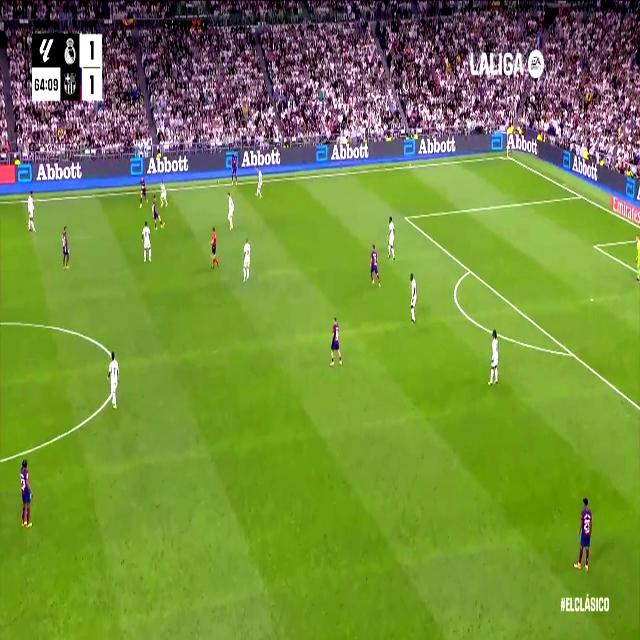bigarea_bottom_inner: (635, 396, 640, 420)
bigarea_top_inner: (402, 209, 408, 224)
bottom_arc_area_intersection: (566, 343, 576, 363)
corner: (503, 151, 511, 161)
smallarea_top_inner: (592, 241, 598, 251)
top_arc_area_intersection: (466, 262, 474, 278)
